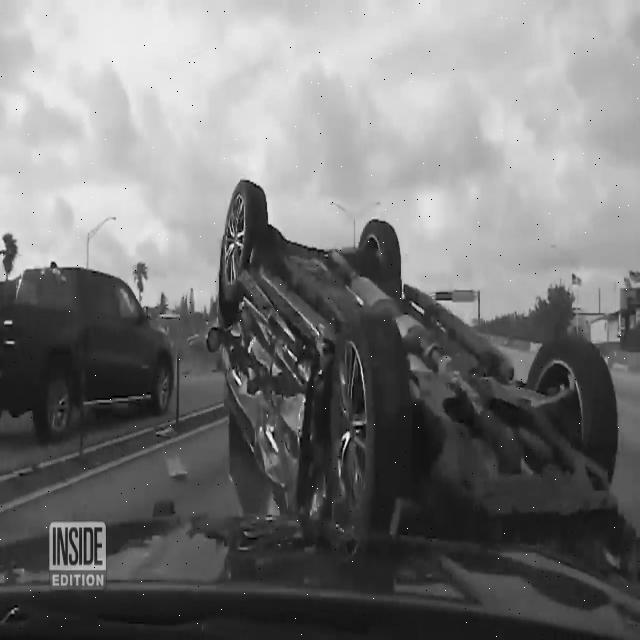accident: (216, 178, 640, 566)
